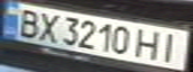0: (112, 24, 136, 56)
1: (93, 20, 115, 53)
2: (75, 17, 96, 51)
3: (57, 15, 81, 47)
B: (12, 6, 45, 38)
H: (133, 27, 163, 61)
I: (154, 30, 187, 63)
X: (33, 10, 63, 43)
